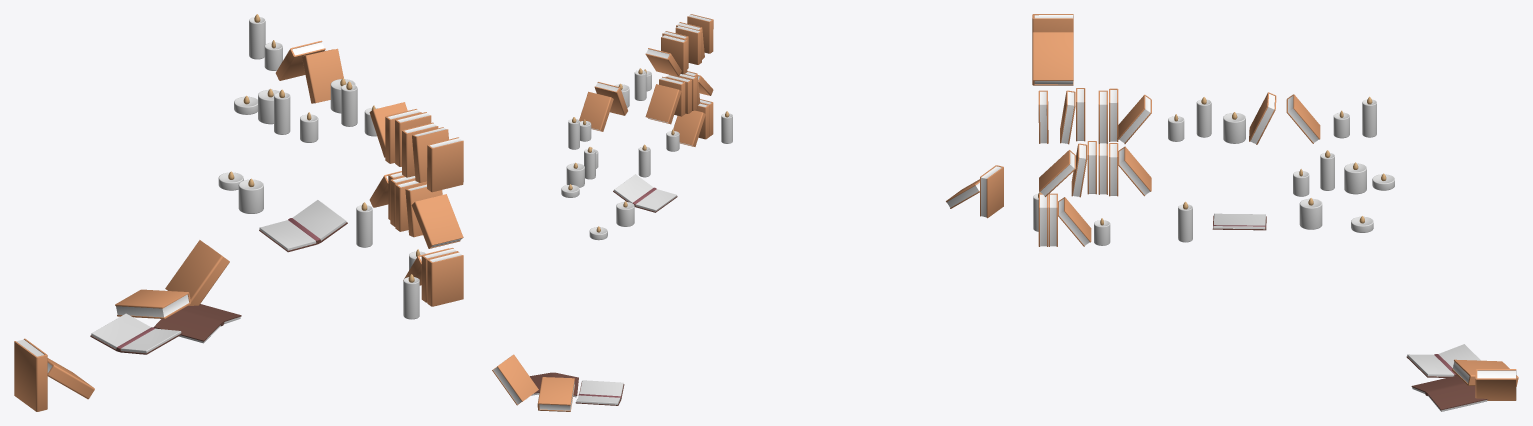
Rendered from UpdatedBooksnCandles.fbx.
3 views of the same model, side by side, from view 1: azimuth 30°, elevation 25°; view 2: azimuth 150°, elevation 25°; view 3: azimuth 270°, elevation 25° (orthographic). The views are drawn at different scales.
Visible parts, largest first — view 1: BooksOpened.001, BooksOpened, BooksClosed.003, BooksClosed.001, BooksClosed.013, BooksOpened.002, BooksClosed.005, BooksClosed.019, BooksClosed.004, BooksClosed.020, BooksClosed.017, BooksClosed (+19 smaller); view 2: BooksOpened.001, BooksClosed.003, BooksClosed.004, BooksClosed.001, BooksOpened, BooksClosed.010, BooksClosed, BooksClosed.007, BooksClosed.015, BooksClosed.016, BooksClosed.018, BooksClosed.020 (+1 smaller); view 3: BooksClosed.002, BooksOpened.002, BooksClosed.003, BooksOpened, BooksClosed.013, BooksOpened.001, BooksClosed, BooksClosed.010, BooksClosed.016, BooksClosed.007, BooksClosed.001, BooksClosed.004 (+19 smaller).
Part boxes in pixels (x1,y1,x2,y2): BooksOpened.001: [259, 200, 347, 252]; BooksOpened: [90, 313, 182, 354]; BooksClosed.003: [165, 240, 229, 305]; BooksClosed.001: [14, 338, 47, 411]; BooksClosed.013: [411, 194, 463, 248]; BooksOpened.002: [153, 304, 241, 343]; BooksClosed.005: [427, 251, 463, 306]; BooksClosed.019: [427, 137, 463, 192]; BooksClosed.004: [115, 289, 190, 318]; BooksClosed.020: [302, 48, 343, 103]; BooksClosed.017: [412, 127, 448, 182]; BooksClosed: [275, 40, 325, 80]; BooksOpened.001: [613, 174, 677, 212]; BooksClosed.003: [492, 354, 538, 405]; BooksClosed.004: [537, 377, 574, 411]; BooksClosed.001: [980, 165, 1003, 218]; BooksOpened: [575, 380, 624, 405]; BooksClosed.010: [645, 84, 681, 124]; BooksClosed: [579, 91, 613, 131]; BooksClosed.007: [673, 110, 705, 146]; BooksClosed.015: [661, 35, 687, 74]; BooksClosed.016: [645, 48, 681, 76]; BooksClosed.018: [675, 25, 701, 64]; BooksClosed.020: [594, 82, 627, 115]; BooksClosed.002: [1032, 32, 1073, 85]; BooksOpened.002: [1411, 375, 1487, 411]; BooksClosed.003: [1475, 369, 1516, 400]; BooksOpened: [1406, 344, 1480, 377]; BooksClosed.013: [1039, 150, 1075, 196]; BooksOpened.001: [1212, 213, 1266, 230]; BooksClosed: [1286, 94, 1320, 143]; BooksClosed.010: [1118, 146, 1151, 196]; BooksClosed.016: [1117, 94, 1151, 143]; BooksClosed.007: [1058, 197, 1091, 246]; BooksClosed.001: [1032, 14, 1073, 32]; BooksClosed.004: [1452, 359, 1518, 386].
Bounding box in the file's own units: 346 × 258 × 369.
